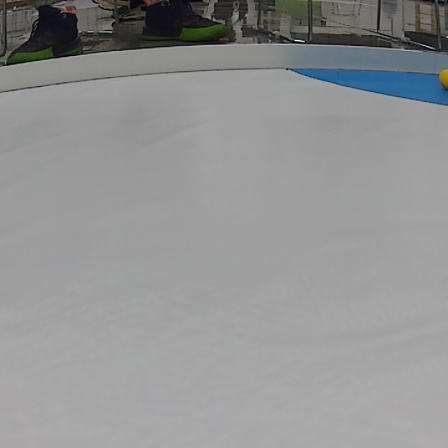blue_base: (282, 66, 448, 109)
yellow: (436, 72, 448, 92)
